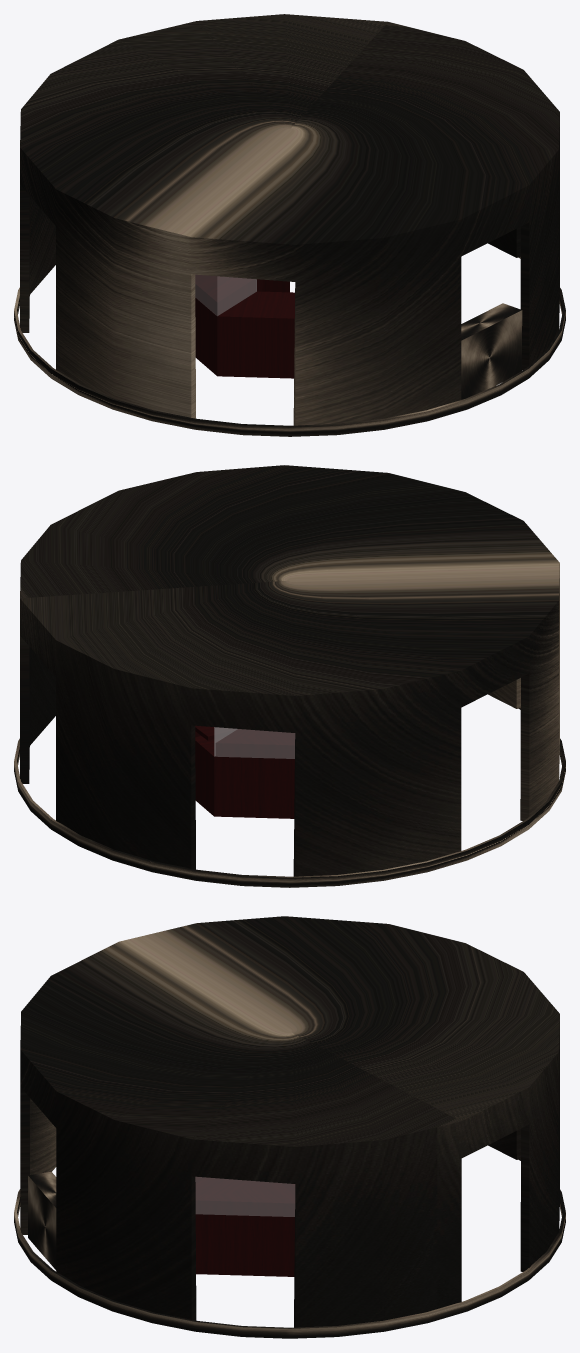
File: Cafe.fbx
The picture shows the model from 3 angles, top to bottom: view 1: azimuth 30°, elevation 25°; view 2: azimuth 150°, elevation 25°; view 3: azimuth 270°, elevation 25°; orthographic projection.
Parts seen in each view (by area): view 1: Connect, circularcounter, Tube1, Cube_1, shelf, Tube; view 2: Connect, circularcounter, Tube, shelf, Tube1; view 3: Connect, circularcounter, Tube, Tube1, shelf1, Cube_1.
Part boxes in pixels (left/top/right/bottom): Connect: left=20, top=14, right=559, bottom=425; circularcounter: left=195, top=275, right=294, bottom=378; Tube1: left=14, top=256, right=565, bottom=436; Cube_1: left=461, top=303, right=522, bottom=399; shelf: left=195, top=274, right=256, bottom=315; Tube: left=14, top=288, right=563, bottom=426; Connect: left=20, top=465, right=559, bottom=876; circularcounter: left=195, top=727, right=294, bottom=818; Tube: left=14, top=707, right=565, bottom=887; shelf: left=215, top=729, right=295, bottom=758; Tube1: left=16, top=739, right=565, bottom=877; Connect: left=20, top=916, right=559, bottom=1327; circularcounter: left=195, top=1177, right=294, bottom=1276; Tube: left=14, top=1189, right=565, bottom=1338; Tube1: left=14, top=1158, right=565, bottom=1338; shelf1: left=195, top=1176, right=295, bottom=1216; Cube_1: left=28, top=1171, right=56, bottom=1270.
Size of the model in its own units: 1010 by 385 by 1011.
